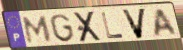A: (153, 7, 179, 38)
G: (49, 13, 76, 44)
L: (100, 11, 126, 40)
M: (22, 15, 53, 45)
V: (120, 7, 148, 40)
X: (72, 10, 104, 44)
